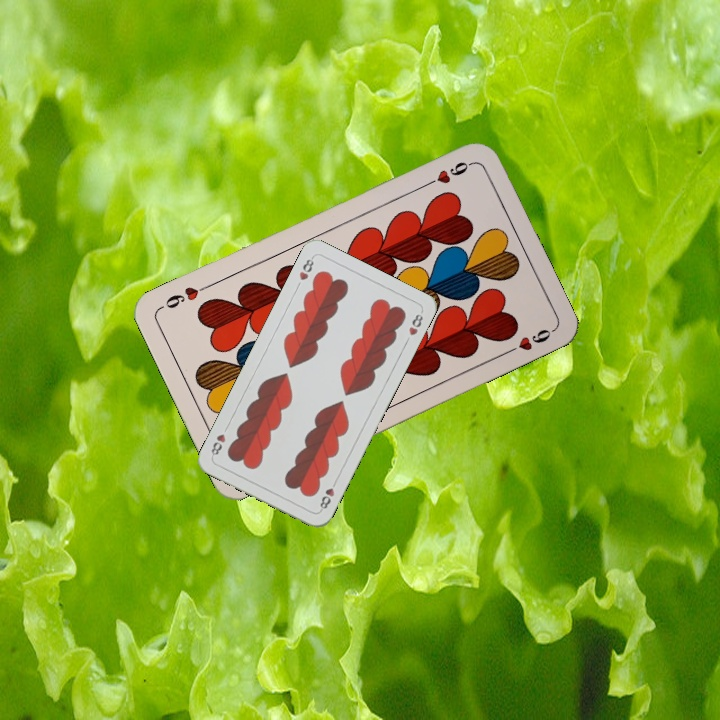H8: (316, 476, 340, 513), (295, 253, 317, 283)
H9: (419, 157, 475, 190)
